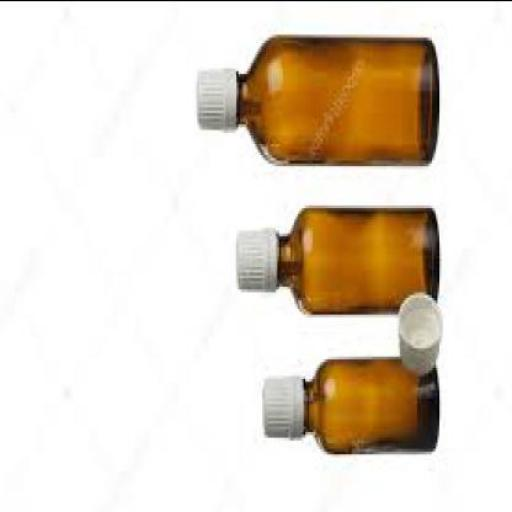glass: (236, 34, 438, 162), (279, 204, 437, 310), (302, 355, 438, 451)
plastic: (394, 286, 438, 372), (260, 372, 304, 434), (236, 226, 278, 286), (193, 67, 235, 126)
